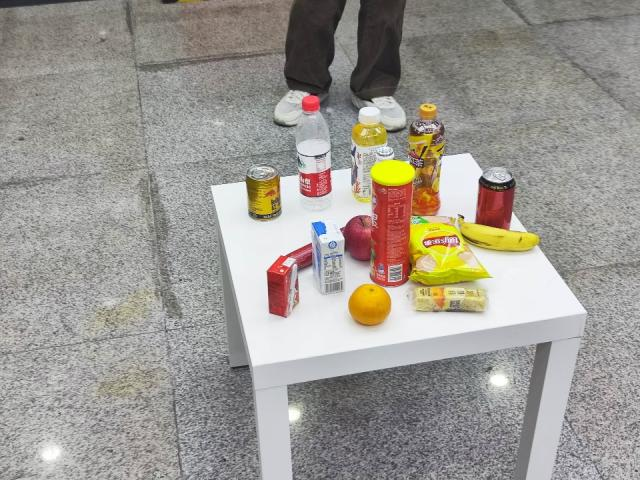Canned_drinks: (476, 163, 516, 236), (243, 163, 283, 220)
bottle: (290, 94, 339, 196)
cylinder: (371, 160, 410, 291)
drink_box: (307, 219, 343, 296), (270, 256, 300, 320)
